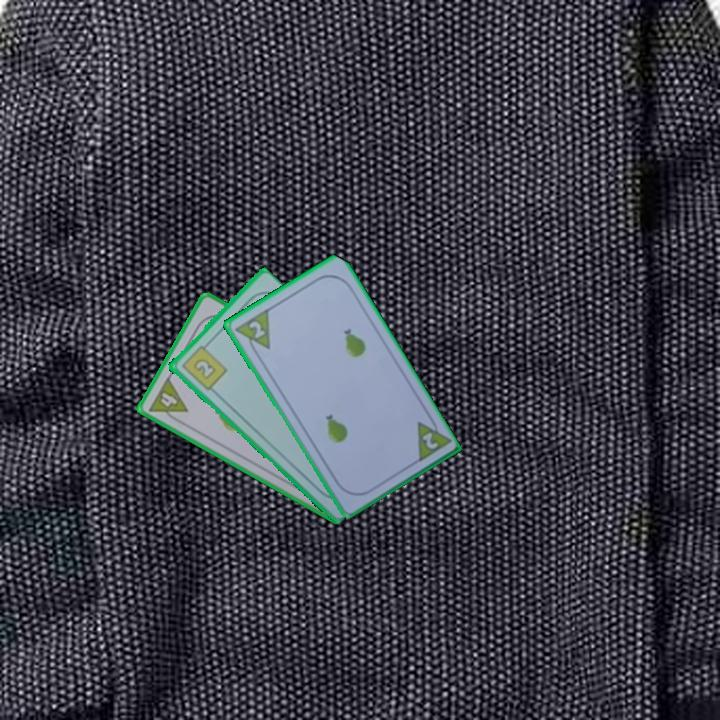2b: (177, 339, 229, 393)
2p: (231, 305, 273, 359), (418, 428, 441, 452)
4p: (145, 373, 190, 426)
